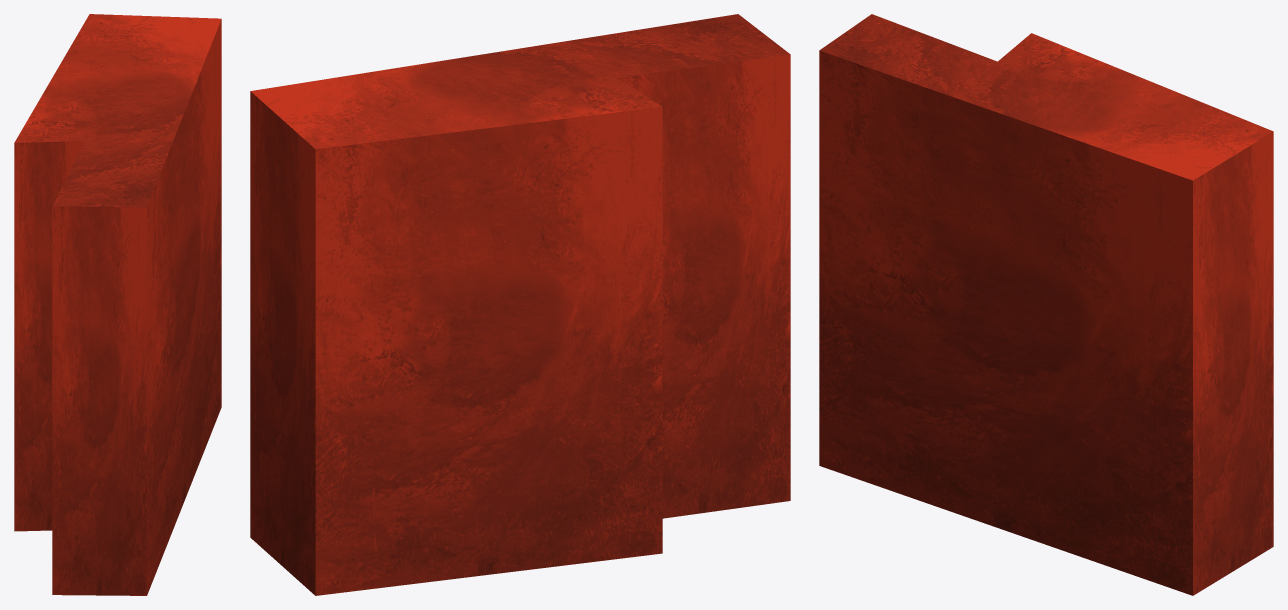
The model's file is orange4.FBX.
3 renders of one model, left to right at view 1: azimuth 30°, elevation 25°; view 2: azimuth 150°, elevation 25°; view 3: azimuth 270°, elevation 25°, orthographic. The views are drawn at different scales.
Visible parts, largest first — view 1: Ligne024; view 2: Ligne024; view 3: Ligne024.
Part boxes in pixels (<box>): Ligne024: <box>14,14,221,595</box>; Ligne024: <box>250,14,790,595</box>; Ligne024: <box>819,14,1273,595</box>.
Size of the model in its own units: 4.69 by 5.45 by 5.4.
1 material, 1 textured.
